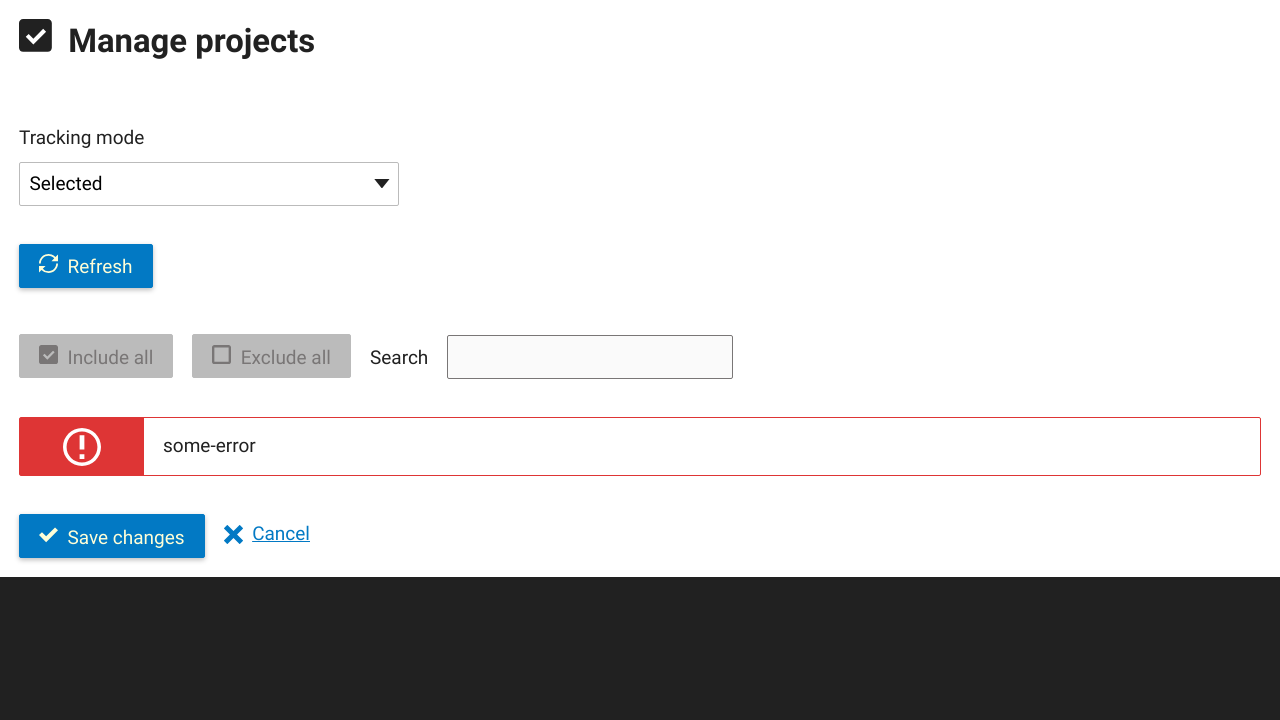
should correctly show and remove errors returned while refreshing
Expected: the list item "some-error" is shown, [163, 434, 256, 457]
Expected: the button "Include all" is disabled, [19, 334, 173, 378]
Click the button "Refresh": [86, 266] box [19, 244, 152, 288]
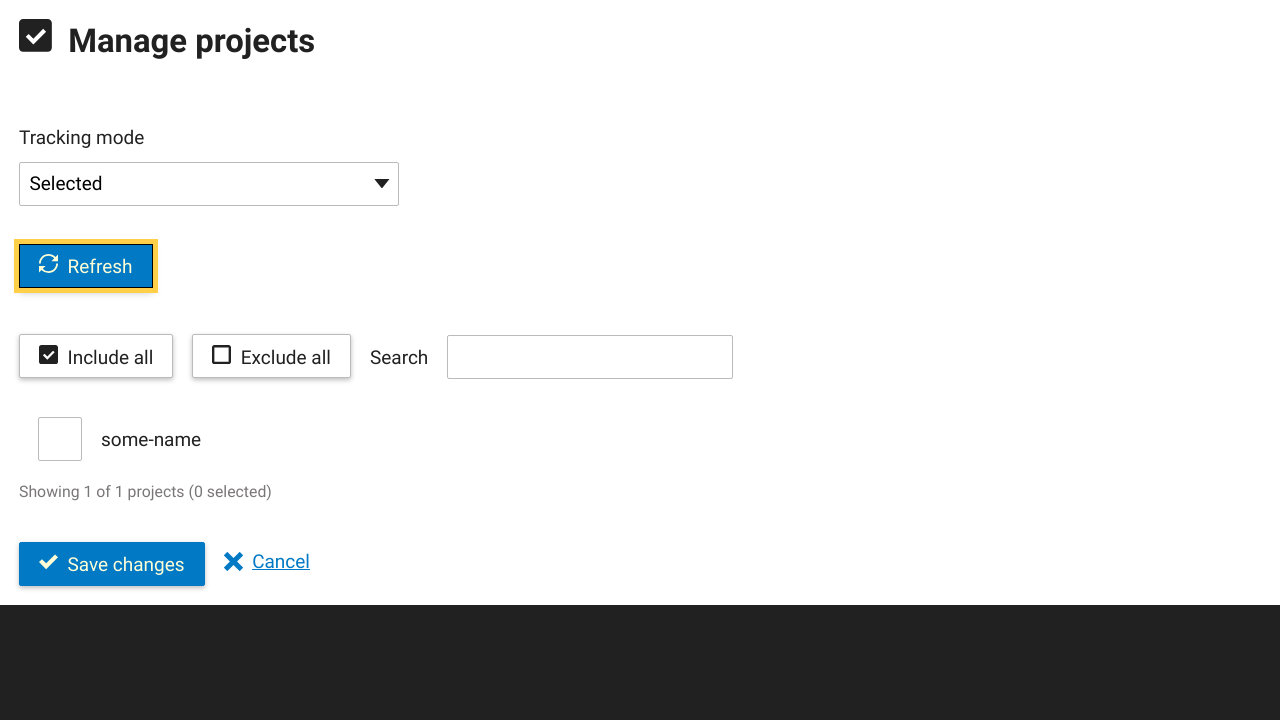
Result: the list item "some-error" is gone
Result: the button "Include all" is enabled at [19, 334, 173, 378]
Result: the button "Exclude all" is enabled at [192, 334, 351, 378]
